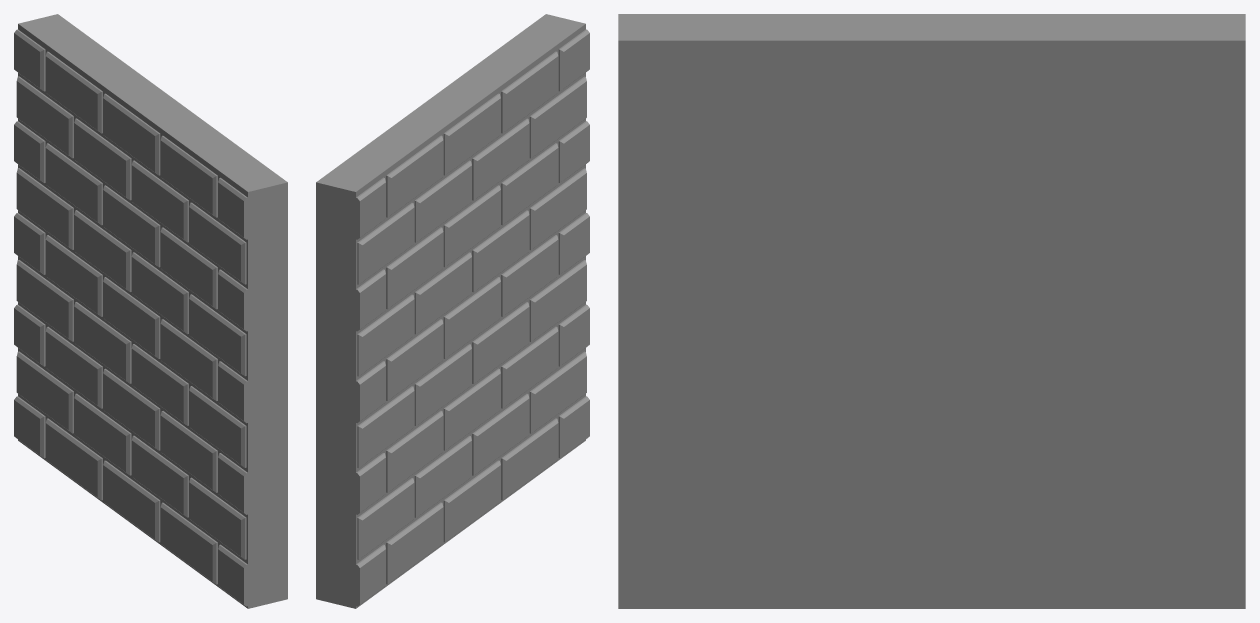
The model's file is BrickWall.fbx.
3 renders of one model, left to right at view 1: azimuth 30°, elevation 25°; view 2: azimuth 150°, elevation 25°; view 3: azimuth 270°, elevation 25°, orthographic. The views are drawn at different scales.
Visible parts, largest first — view 1: BrickWall; view 2: BrickWall; view 3: BrickWall.
Boxes of the visible parts, x1=… form: BrickWall: x1=14, y1=14, x2=287, y2=608; BrickWall: x1=316, y1=14, x2=589, y2=608; BrickWall: x1=618, y1=14, x2=1245, y2=608.
Size of the model in its own units: 22 by 200 by 200.
